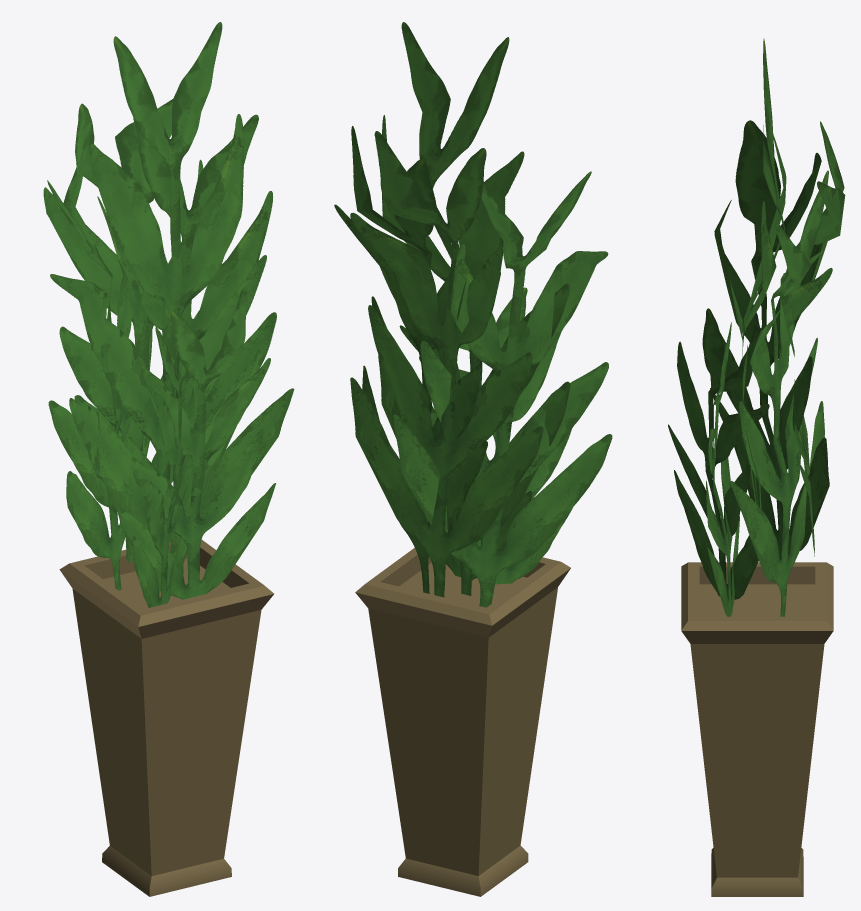
Rendered from SM_Plante_02_low.fbx.
3 renders of one model, left to right at view 1: azimuth 30°, elevation 25°; view 2: azimuth 150°, elevation 25°; view 3: azimuth 270°, elevation 25°, orthographic. The views are drawn at different scales.
Visible parts, largest first — view 1: SM_Plante_02_low; view 2: SM_Plante_02_low; view 3: SM_Plante_02_low.
Part boxes in pixels (x1,y1,x2,y2): SM_Plante_02_low: (43,22,294,896); SM_Plante_02_low: (334,22,612,896); SM_Plante_02_low: (668,38,845,896).
Size of the model in its own units: 150 by 436 by 87.9.
